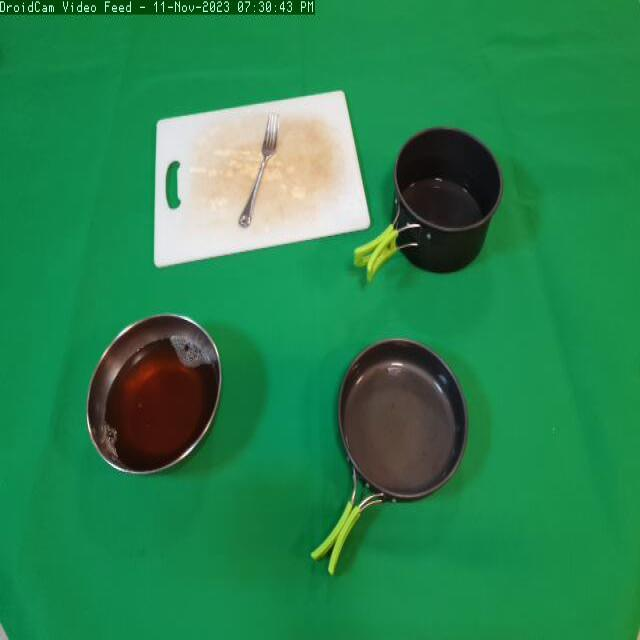cutting board: (148, 82, 378, 282)
fork: (237, 108, 287, 236)
fullbowl: (86, 310, 225, 479)
pan: (310, 329, 486, 584)
pot: (354, 122, 515, 293)
